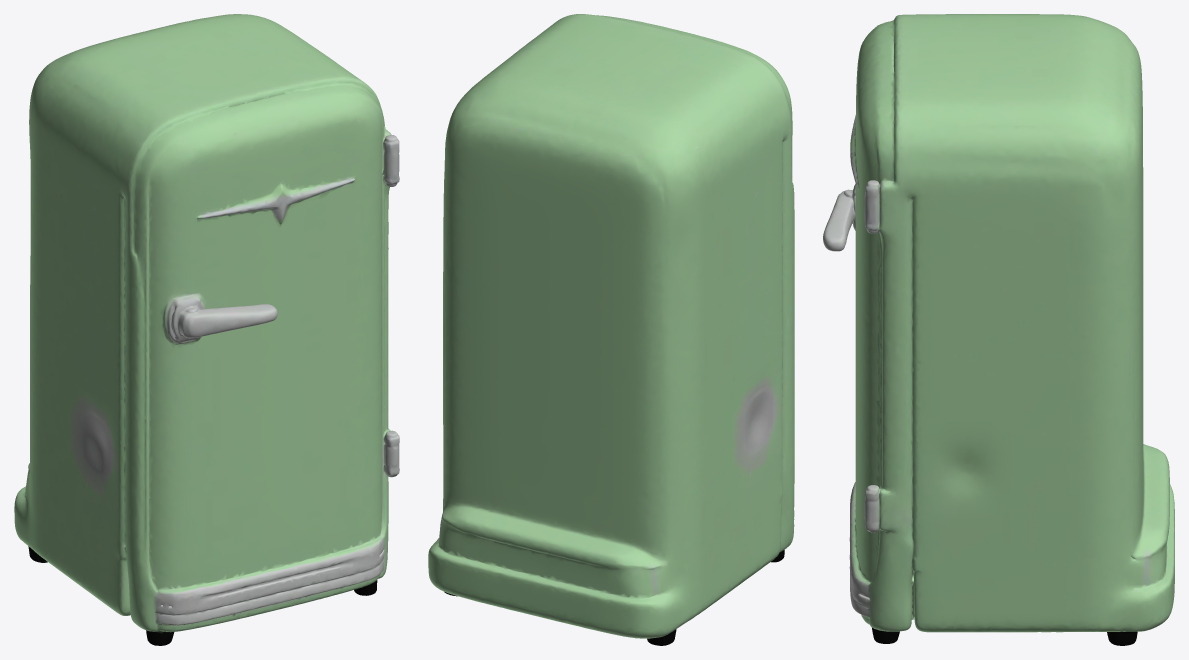
Rendered from fridge.glb.
3 renders of one model, left to right at view 1: azimuth 30°, elevation 25°; view 2: azimuth 150°, elevation 25°; view 3: azimuth 270°, elevation 25°, orthographic. The views are drawn at different scales.
Size of the model in its own units: 0.517 by 0.9969 by 0.5949.
Materials: 1 (1 with a texture image).
